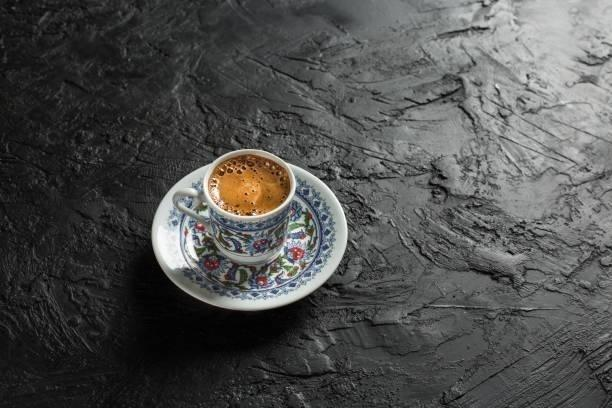cup-handle: (171, 147, 298, 266)
